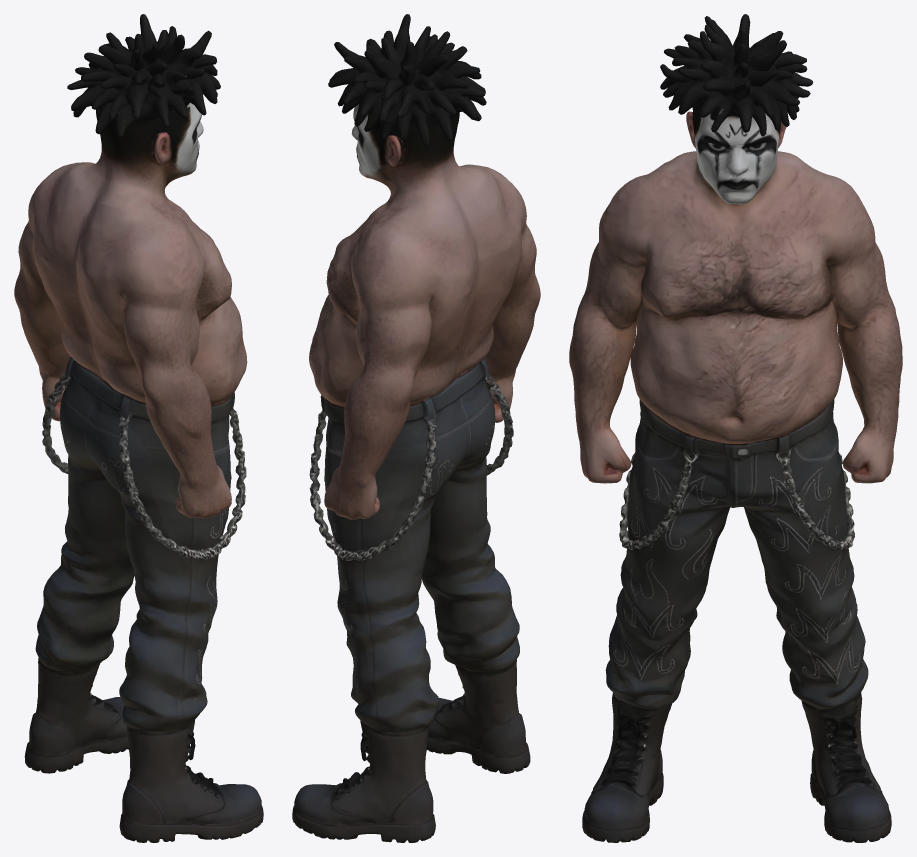
File: cfa62ce5-4acd-4f1a-b04b-0a2d892fa2d1.glb
3 views of the same model, side by side, from view 1: azimuth 30°, elevation 25°; view 2: azimuth 150°, elevation 25°; view 3: azimuth 270°, elevation 25° (orthographic). The views are drawn at different scales.
Parts seen in each view (by area): view 1: tripo_node_efcf3606-dbaf-4788-9967-9d61c3d55bdb; view 2: tripo_node_efcf3606-dbaf-4788-9967-9d61c3d55bdb; view 3: tripo_node_efcf3606-dbaf-4788-9967-9d61c3d55bdb.
Boxes of the visible parts, x1,y1,x2,y2 form: tripo_node_efcf3606-dbaf-4788-9967-9d61c3d55bdb: (14,14,263,842); tripo_node_efcf3606-dbaf-4788-9967-9d61c3d55bdb: (292,14,540,842); tripo_node_efcf3606-dbaf-4788-9967-9d61c3d55bdb: (569,14,902,842).
Size of the model in its own units: 0.233 by 1 by 0.3791.
Materials: 1 (1 with a texture image).
